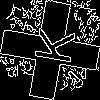K: (25, 25, 76, 66)
